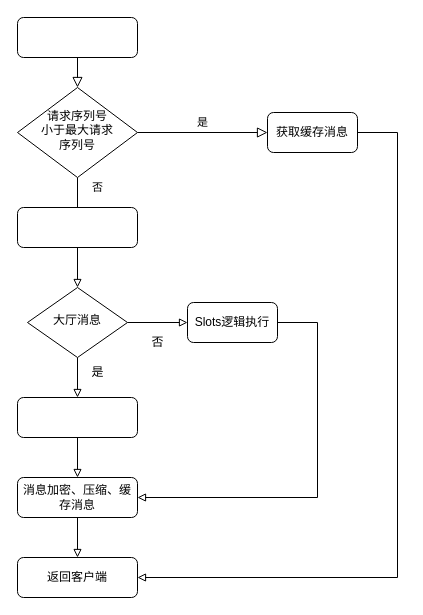
Some shapes in this 423 by 615 pixel diagram are drawn without their labels. Each missing label, with the box of its shape:
删除小于确认序列号的缓存消息: (16, 206, 138, 248)
大厅逻辑执行: (16, 396, 138, 438)
客户端请求消息: (16, 16, 138, 58)
